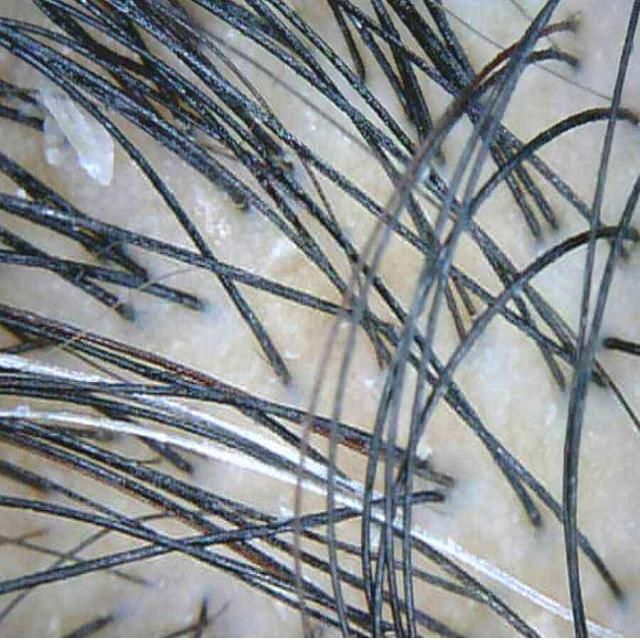d: (40, 83, 114, 185)
